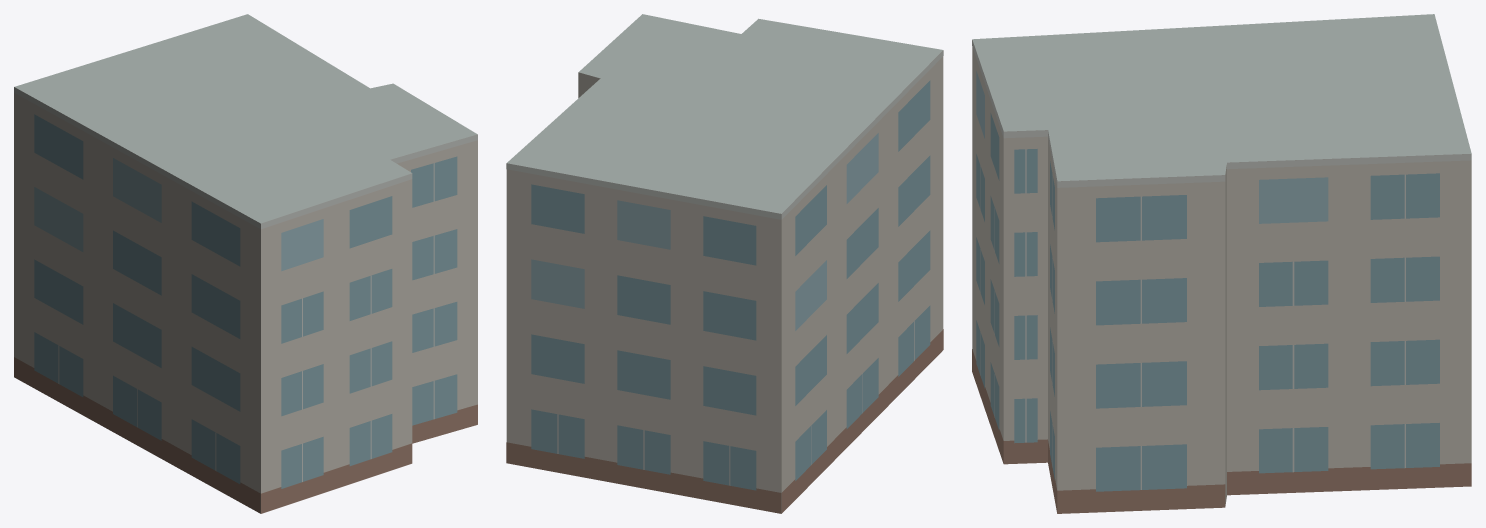
The model's file is survey-upis-32906024.glb.
3 renders of one model, left to right at view 1: azimuth 30°, elevation 25°; view 2: azimuth 150°, elevation 25°; view 3: azimuth 270°, elevation 25°, orthographic. The views are drawn at different scales.
Parts seen in each view (by area): view 1: survey-upis-32906024.tmp; view 2: survey-upis-32906024.tmp; view 3: survey-upis-32906024.tmp.
Part boxes in pixels (x1,y1,x2,y2): survey-upis-32906024.tmp: (14, 14, 477, 513); survey-upis-32906024.tmp: (506, 14, 943, 513); survey-upis-32906024.tmp: (972, 14, 1471, 513).
Bounding box in the file's own units: 13.17 × 12.2 × 16.62.
